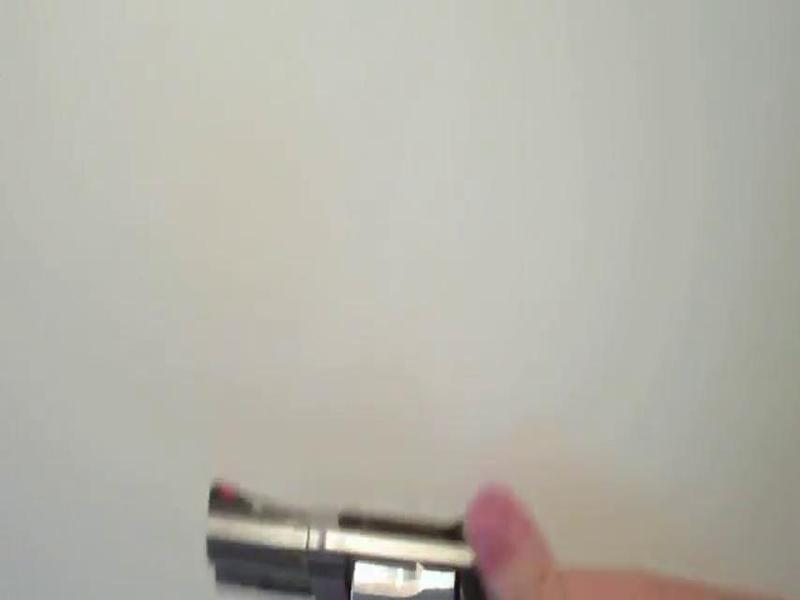Revolver: (185, 459, 457, 600)
